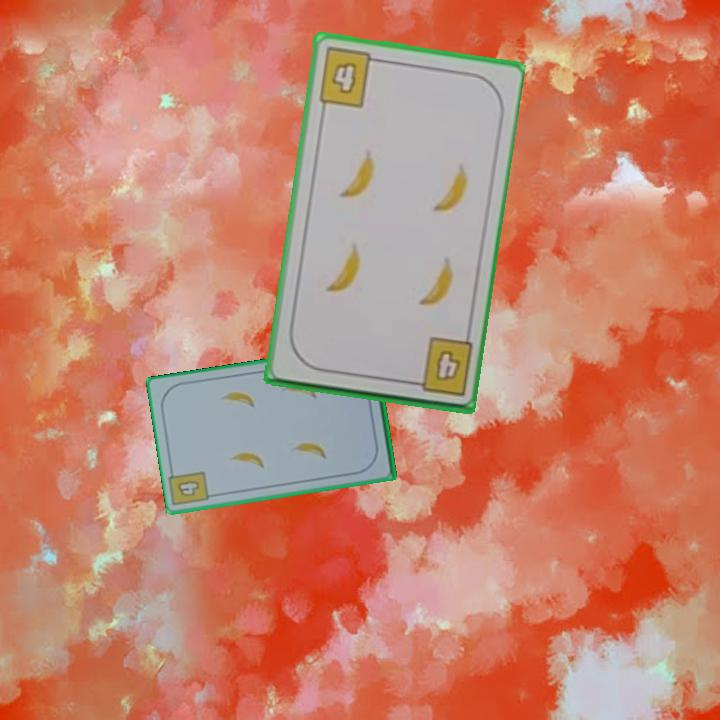4b: (403, 334, 475, 400), (315, 44, 383, 111), (174, 477, 202, 500)
